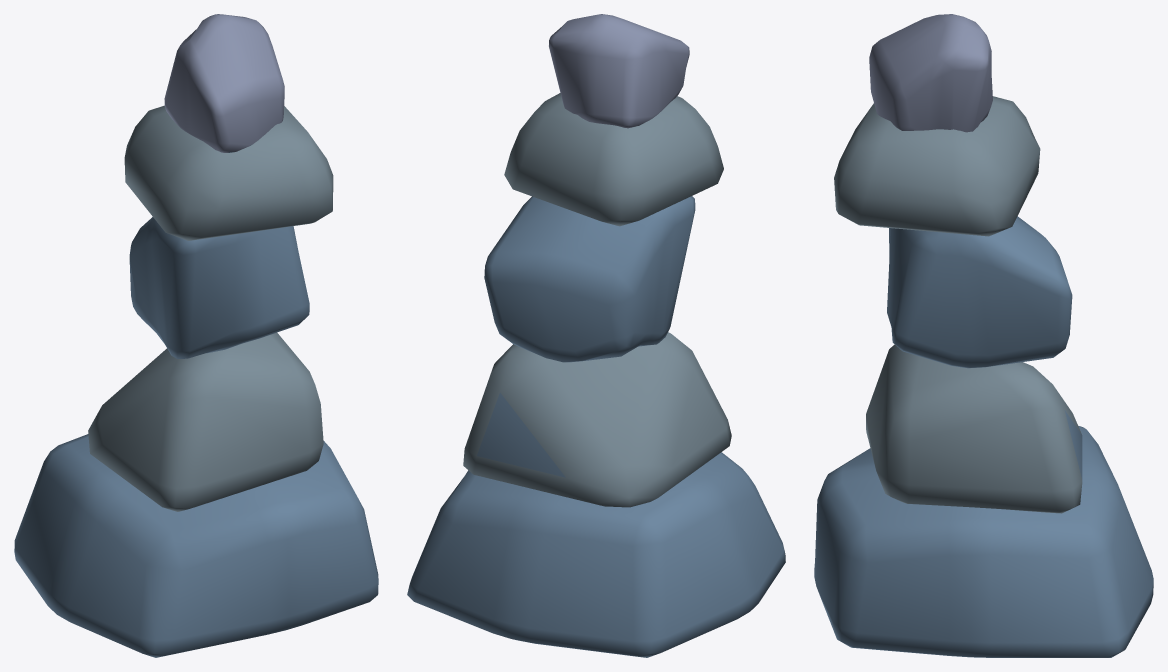
File: StonePillarV1.gltf
3 renders of one model, left to right at view 1: azimuth 30°, elevation 25°; view 2: azimuth 150°, elevation 25°; view 3: azimuth 270°, elevation 25°, orthographic. The views are drawn at different scales.
Parts seen in each view (by area): view 1: StonePillarV1; view 2: StonePillarV1; view 3: StonePillarV1.
Part boxes in pixels (x1,y1,x2,y2): StonePillarV1: [14, 14, 378, 657]; StonePillarV1: [407, 14, 785, 657]; StonePillarV1: [814, 14, 1153, 657].
Size of the model in its own units: 0.4618 by 0.883 by 0.4644.
